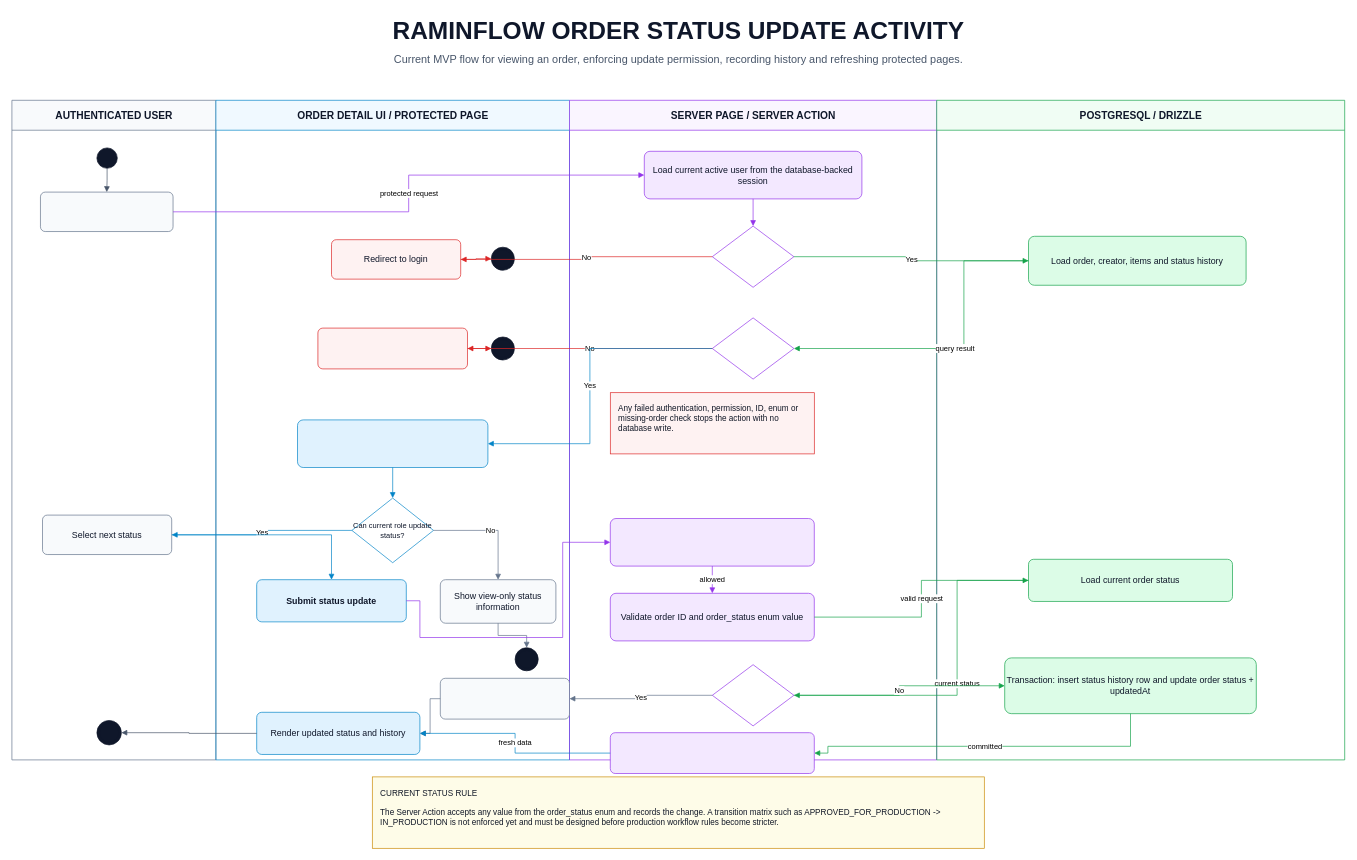
Image size: 1357x860. Some labels were removed from this diagram. The box of each missing label's shape, as (x1, y1, x2, y2) in pixels:
Active user found?: (712, 225, 794, 287)
Open order details: (40, 191, 173, 232)
Order found?: (712, 317, 794, 379)
Reload current user and repeat permission check: (610, 518, 814, 566)
Render not-found page: (317, 327, 468, 369)
Render order details, items and status history: (297, 419, 488, 468)
Return without database write: (440, 678, 570, 719)
Revalidate order detail and order list: (610, 732, 814, 774)
Status unchanged?: (712, 664, 794, 726)
